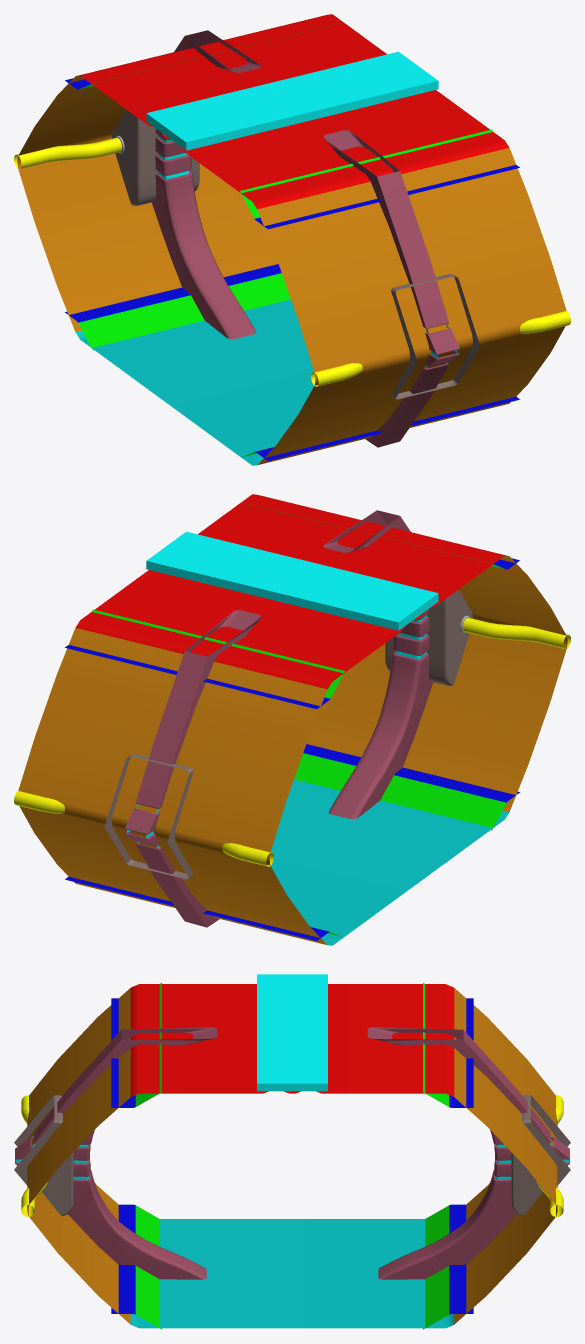
Rendered from InnerCorridorA.fbx.
3 renders of one model, top to bottom at view 1: azimuth 30°, elevation 25°; view 2: azimuth 150°, elevation 25°; view 3: azimuth 270°, elevation 25°, orthographic. The views are drawn at different scales.
Parts seen in each view (by area): view 1: merged_circular_doorway; view 2: merged_circular_doorway; view 3: merged_circular_doorway.
Boxes of the visible parts, box(x1,y1,x2,y2) form: merged_circular_doorway: box(14, 14, 570, 465); merged_circular_doorway: box(14, 494, 570, 945); merged_circular_doorway: box(14, 974, 570, 1329).
Size of the model in its own units: 400 by 419 by 860.
